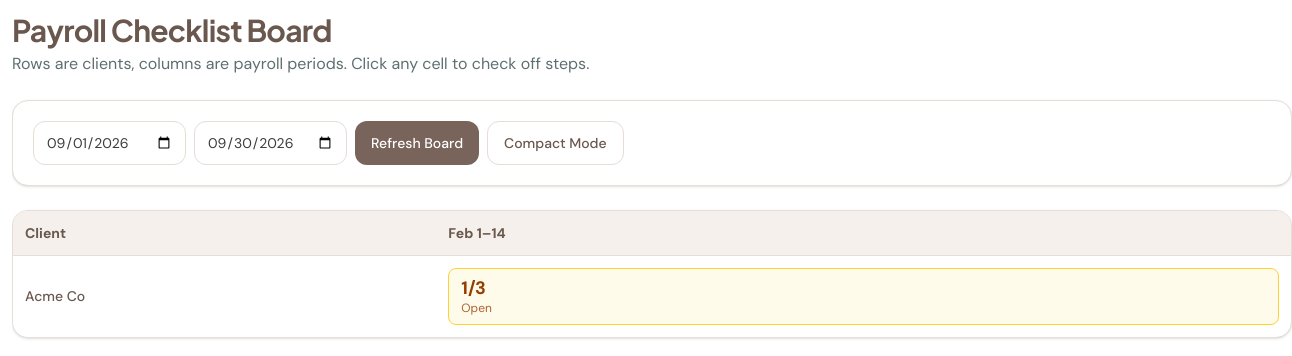
OperationsPage › toggles compact mode label
The image size is (1292, 356).
Click the button "Compact Mode".
click(555, 143)  # box [487,121,624,165]
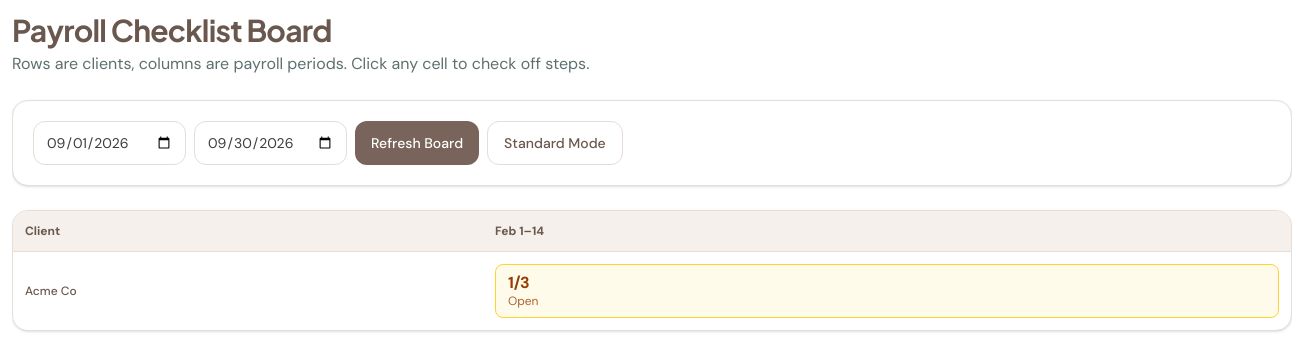
Check: the button "Standard Mode" is shown, box [487,121,623,165]
